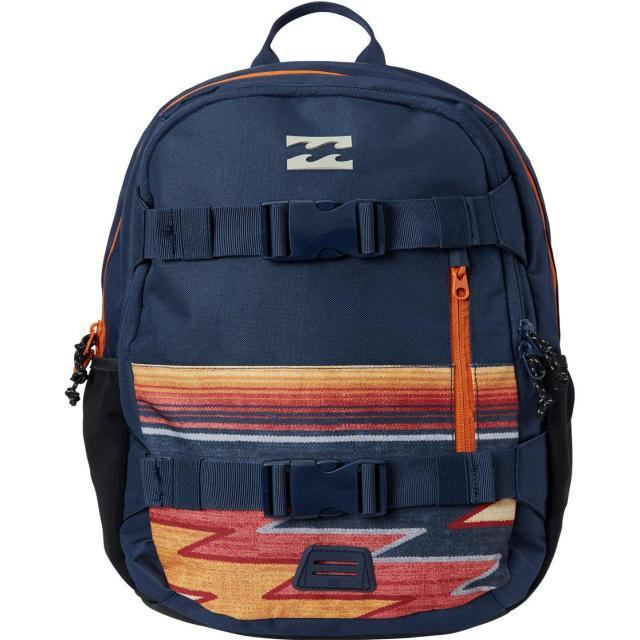Backpacks: (76, 56, 580, 640)
